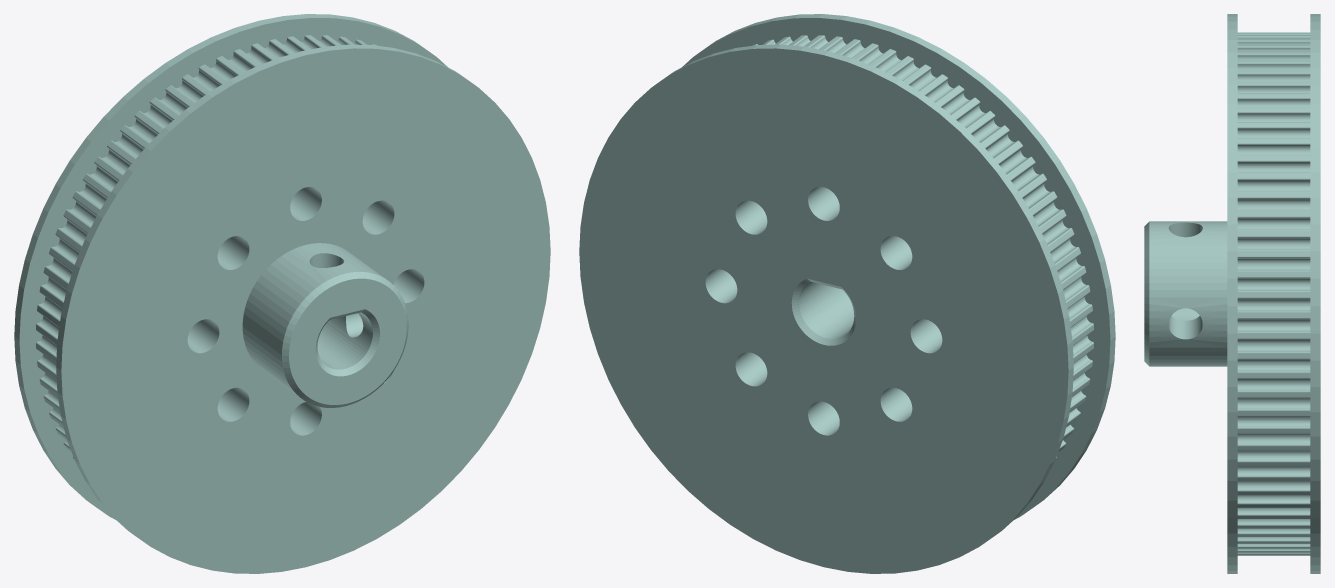
Rendered from gt2-80t-pulley.glb.
3 renders of one model, left to right at view 1: azimuth 30°, elevation 25°; view 2: azimuth 150°, elevation 25°; view 3: azimuth 270°, elevation 25°, orthographic.
Parts seen in each view (by area): view 1: pulley80.stl; view 2: pulley80.stl; view 3: pulley80.stl.
Boxes of the visible parts, x1,y1,x2,y2 form: pulley80.stl: (14,14,550,573); pulley80.stl: (579,14,1115,573); pulley80.stl: (1144,14,1320,573).
Size of the model in its own units: 54 by 54 by 17.
